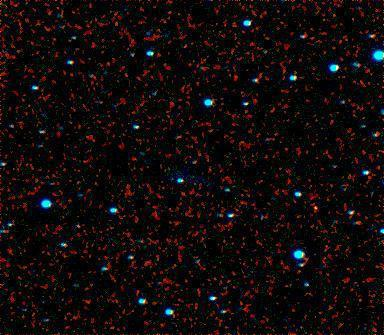star: (300, 194, 330, 224)
